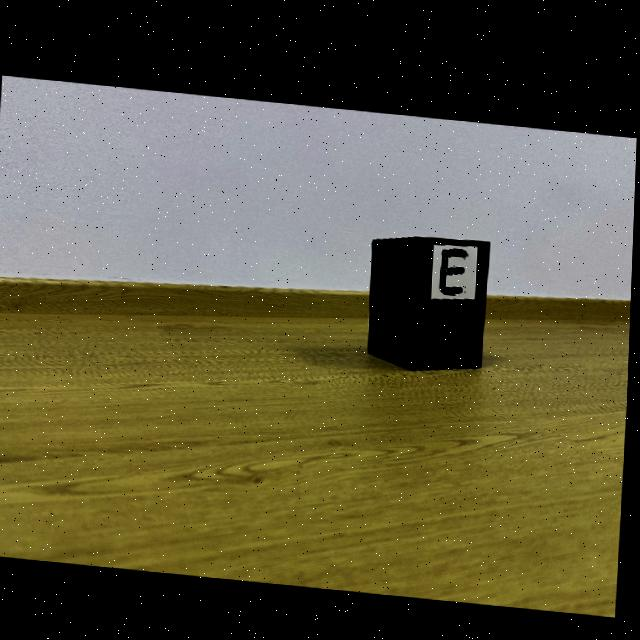E: (441, 241, 469, 286)
